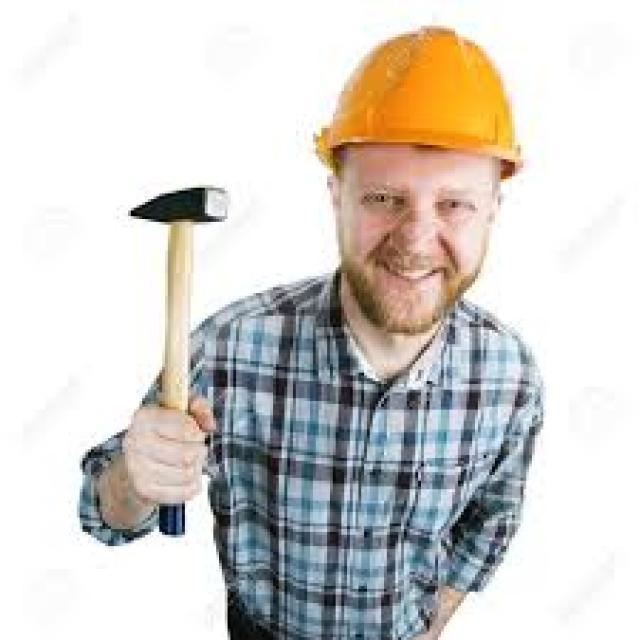hammer: (120, 170, 233, 544)
